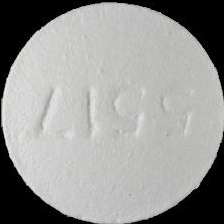0093-5517: (0, 0, 224, 224)
